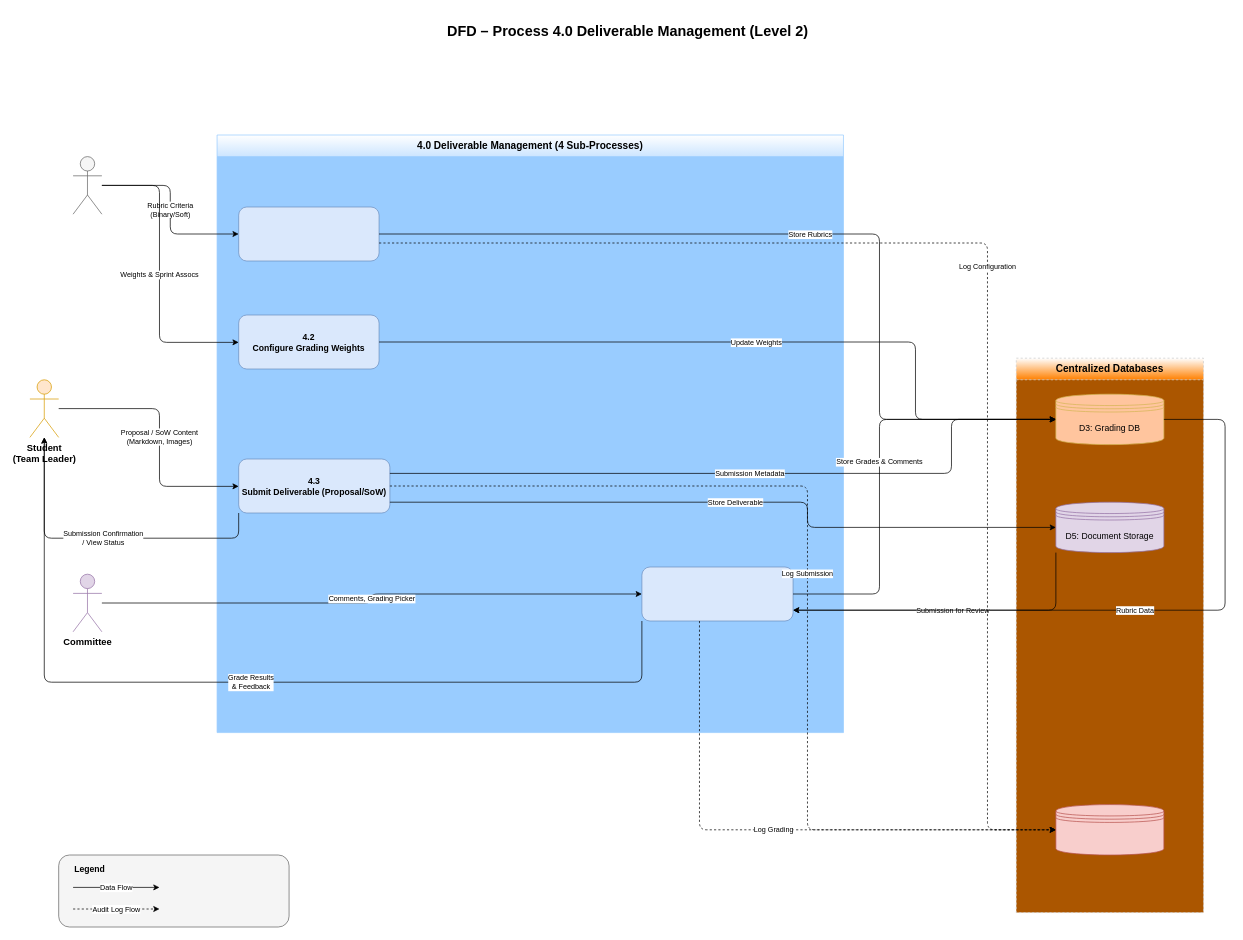
This 1243x940 diagram has some shape labels left out. The shapes that lost their labels are listed below. From the top down, each one's centre as x and y in pixels, then its label:
point (87, 185): Coordinator
point (308, 233): 4.1 Define Deliverable Rubrics
point (717, 593): 4.4 Review and Grade Submission
point (1109, 829): D6: Audit Logs
